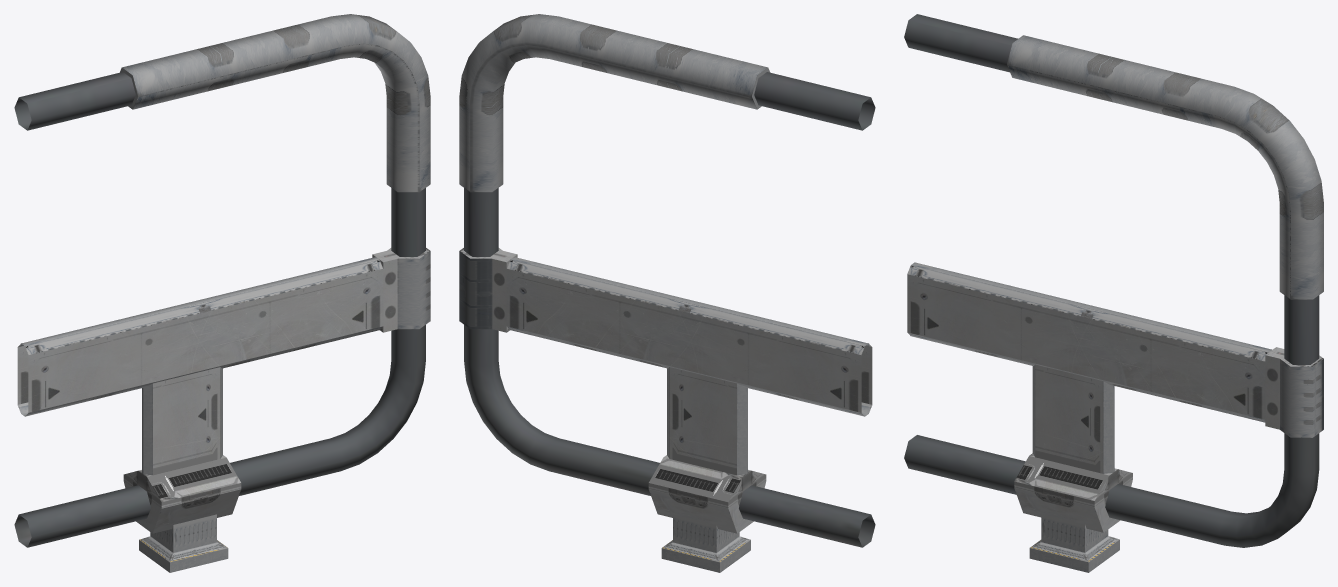
File: SM_Rail2.fbx
3 views of the same model, side by side, from view 1: azimuth 30°, elevation 25°; view 2: azimuth 150°, elevation 25°; view 3: azimuth 330°, elevation 25° (orthographic).
Visible parts, largest first — view 1: SM_Rail2_LOD0; view 2: SM_Rail2_LOD0; view 3: SM_Rail2_LOD0.
Boxes of the visible parts, bbox=[...] form: SM_Rail2_LOD0: bbox=[14, 14, 430, 572]; SM_Rail2_LOD0: bbox=[459, 14, 875, 572]; SM_Rail2_LOD0: bbox=[904, 14, 1323, 572].
Bounding box in the file's own units: 101 × 16.5 × 119.
Materials: 2 (2 with a texture image).
